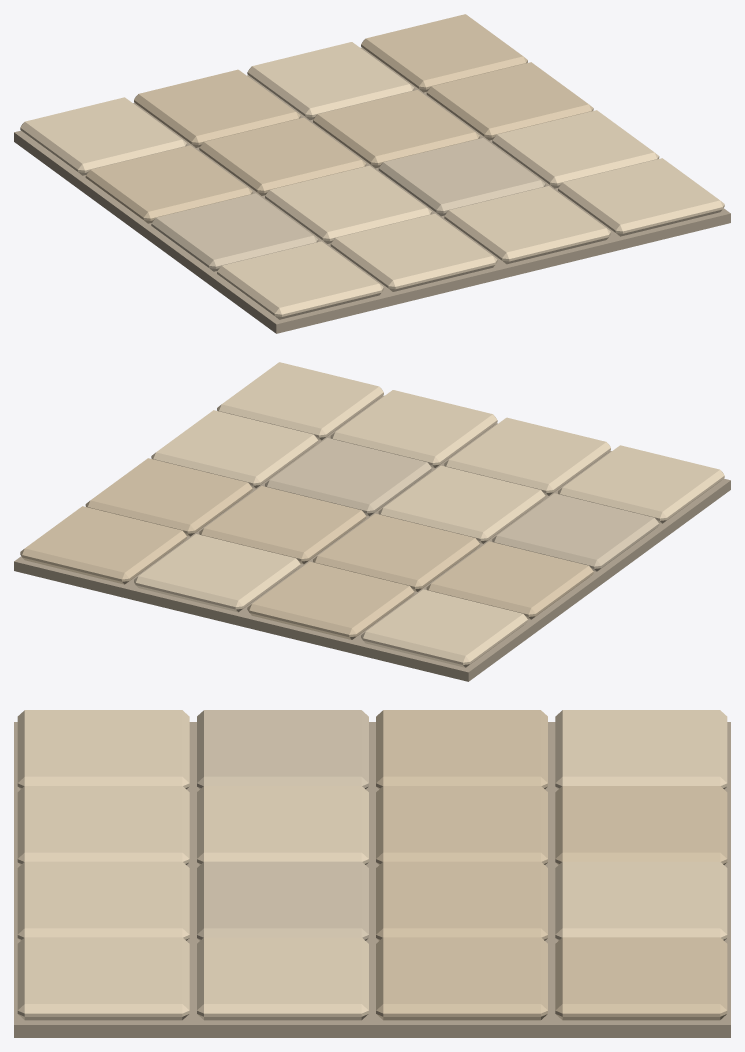
Rendered from floor_tile_2x2.glb.
The picture shows the model from 3 angles, top to bottom: view 1: azimuth 30°, elevation 25°; view 2: azimuth 150°, elevation 25°; view 3: azimuth 270°, elevation 25°; orthographic projection. The views are drawn at different scales.
Parts seen in each view (by area): view 1: floor_tile_2x2; view 2: floor_tile_2x2; view 3: floor_tile_2x2.
Boxes of the visible parts, x1,y1,x2,y2 form: floor_tile_2x2: (14, 14, 730, 333); floor_tile_2x2: (14, 362, 730, 681); floor_tile_2x2: (14, 710, 730, 1037).
Bounding box in the file's own units: 2 × 0.09 × 2.
